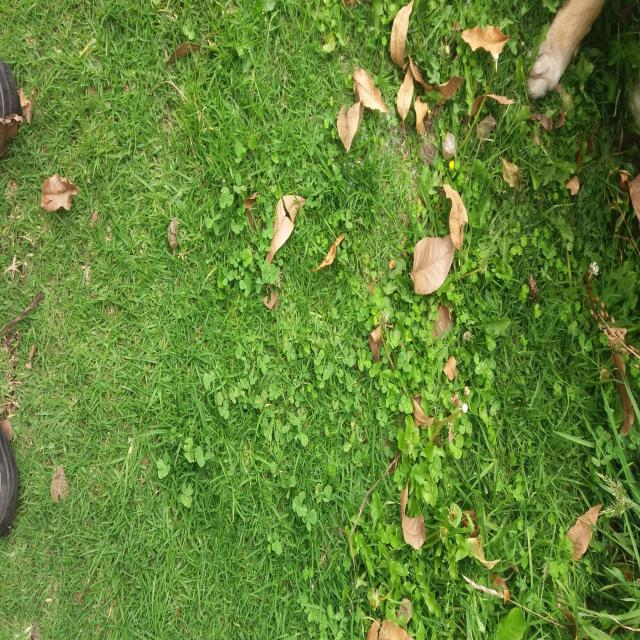Four Leaf Clover: (292, 491, 307, 517), (342, 346, 354, 367)
